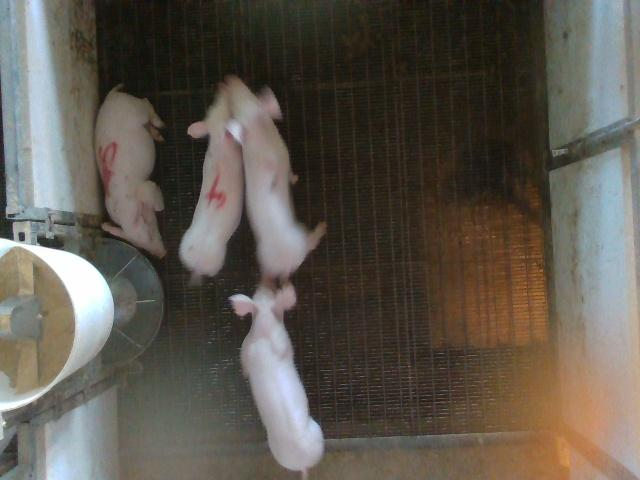pig-2: (224, 75, 326, 284)
pig-4: (179, 85, 242, 281)
pig-5: (95, 85, 166, 257)
